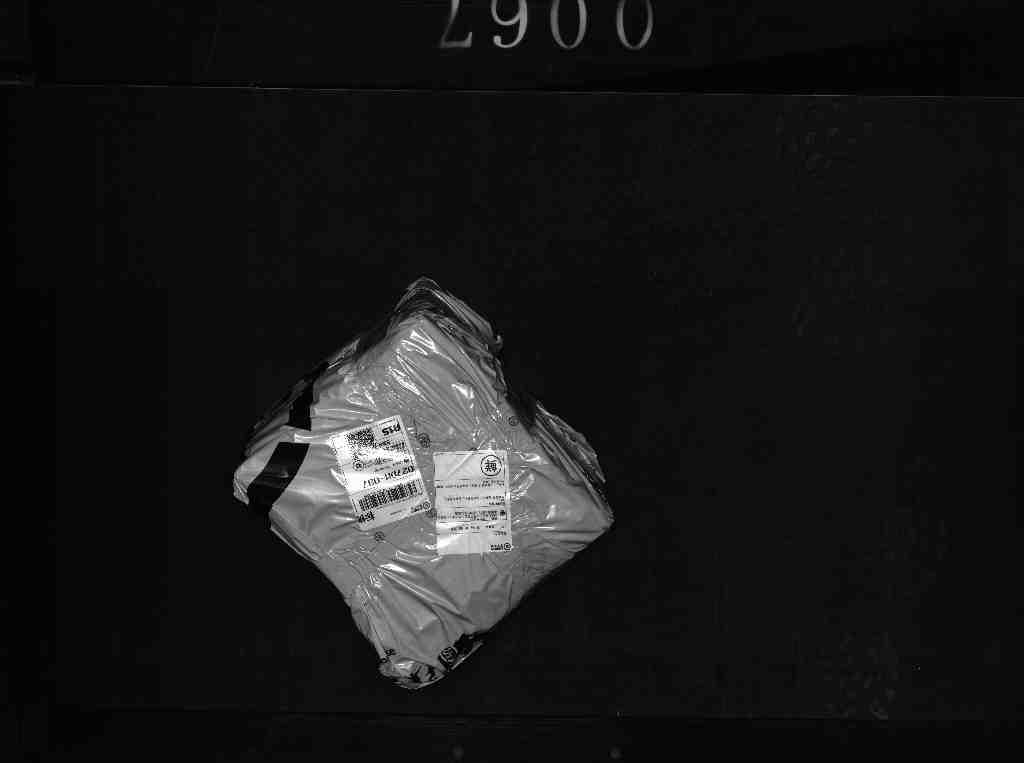box: (220, 296, 627, 703)
